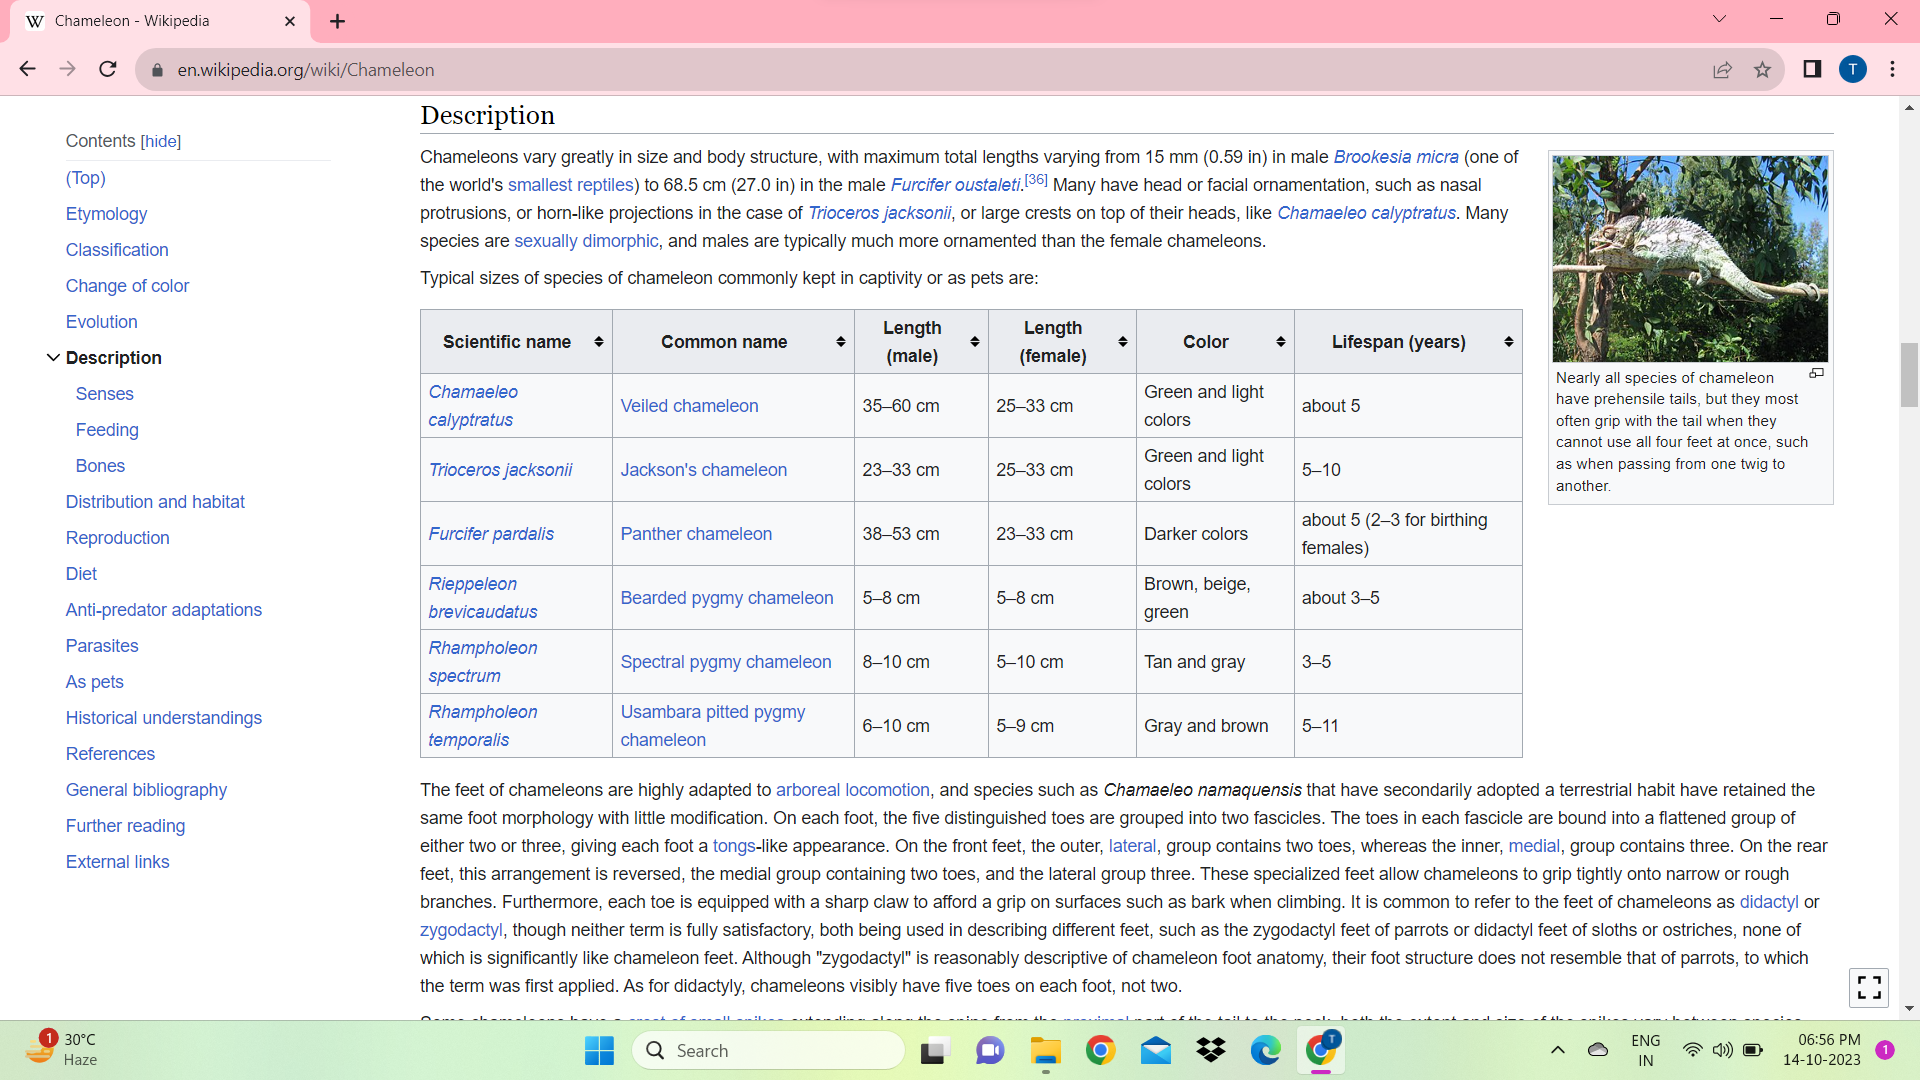Image: (1543, 142, 1851, 363)
Paragraph: (407, 764, 1838, 1001), (411, 140, 1534, 251), (1547, 367, 1838, 509), (417, 264, 1083, 298), (611, 695, 822, 757), (1296, 505, 1509, 559), (611, 444, 814, 495), (427, 306, 589, 364), (1320, 311, 1495, 363), (1137, 440, 1292, 496), (69, 589, 265, 632), (620, 513, 790, 560), (1133, 632, 1259, 688), (417, 509, 576, 554), (421, 632, 550, 686), (58, 488, 278, 520), (637, 323, 807, 363), (58, 773, 233, 811), (430, 373, 533, 438), (1007, 316, 1112, 376), (862, 306, 964, 367), (67, 699, 268, 729), (411, 99, 563, 133), (851, 380, 964, 421), (988, 438, 1085, 483), (993, 696, 1076, 746), (1163, 315, 1242, 363), (856, 572, 940, 615), (997, 570, 1072, 611), (58, 160, 116, 194), (1295, 705, 1354, 737), (61, 313, 146, 330)
